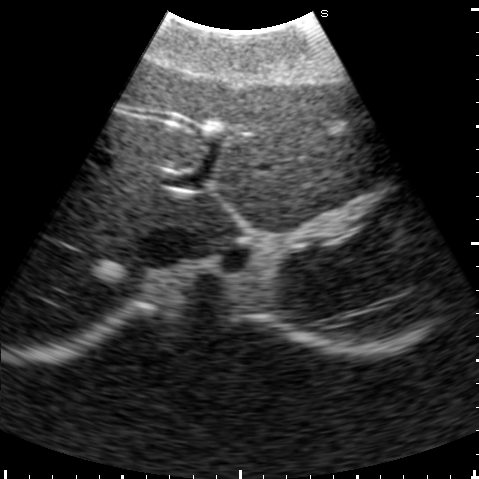IVC: (132, 227, 196, 266)
S1: (178, 194, 244, 256)
S2: (216, 155, 397, 232)
S3: (215, 79, 391, 194)
Tumor: (326, 120, 344, 136)
